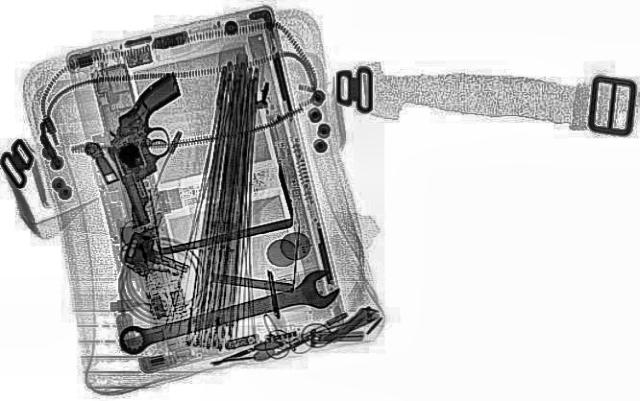Gun: (76, 72, 234, 226)
Wrench: (104, 268, 350, 360)
